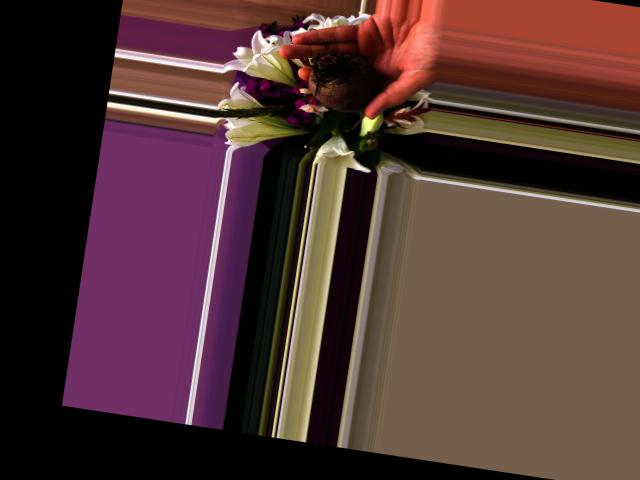beet: (301, 48, 386, 134)
